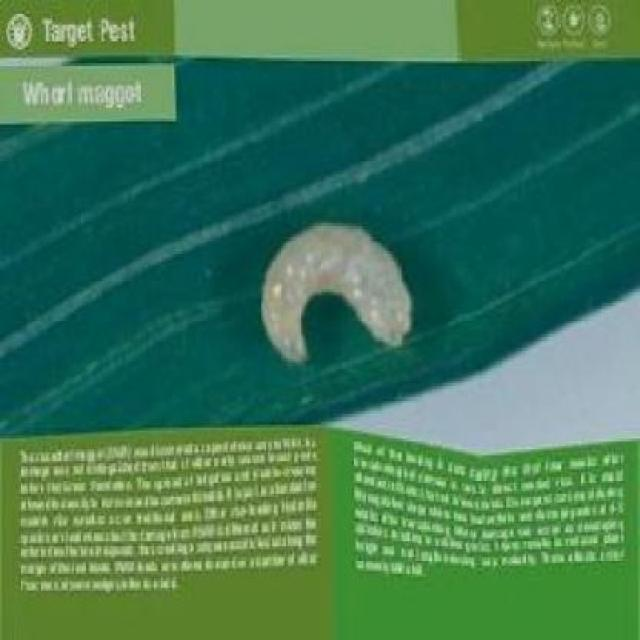whorl-maggot: (260, 221, 426, 368)
